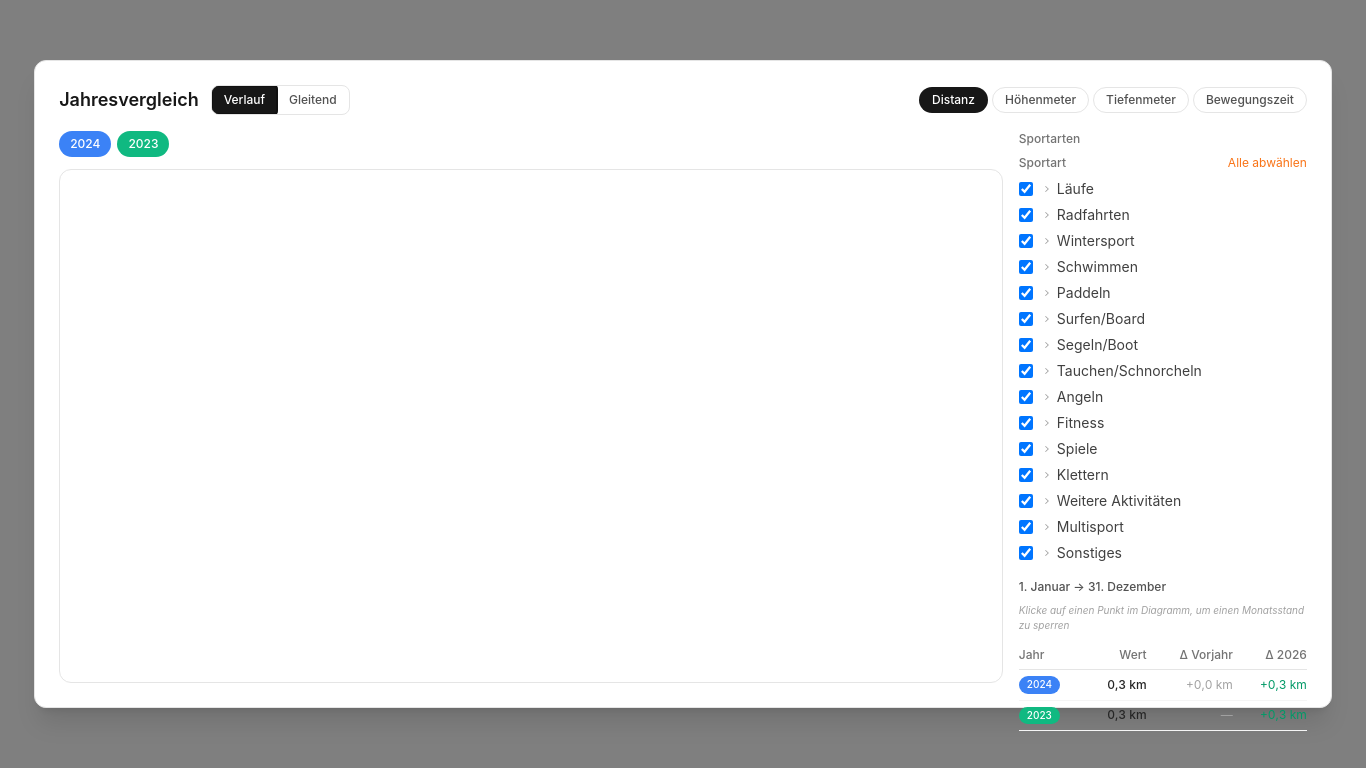
Test: YearProgressionFullscreenModal › period-selector: Tag unit with multiplier 1 shows singular hint
Click the button "Gleitend" at (313, 100), box top-left (277, 86), bottom-right (349, 114)
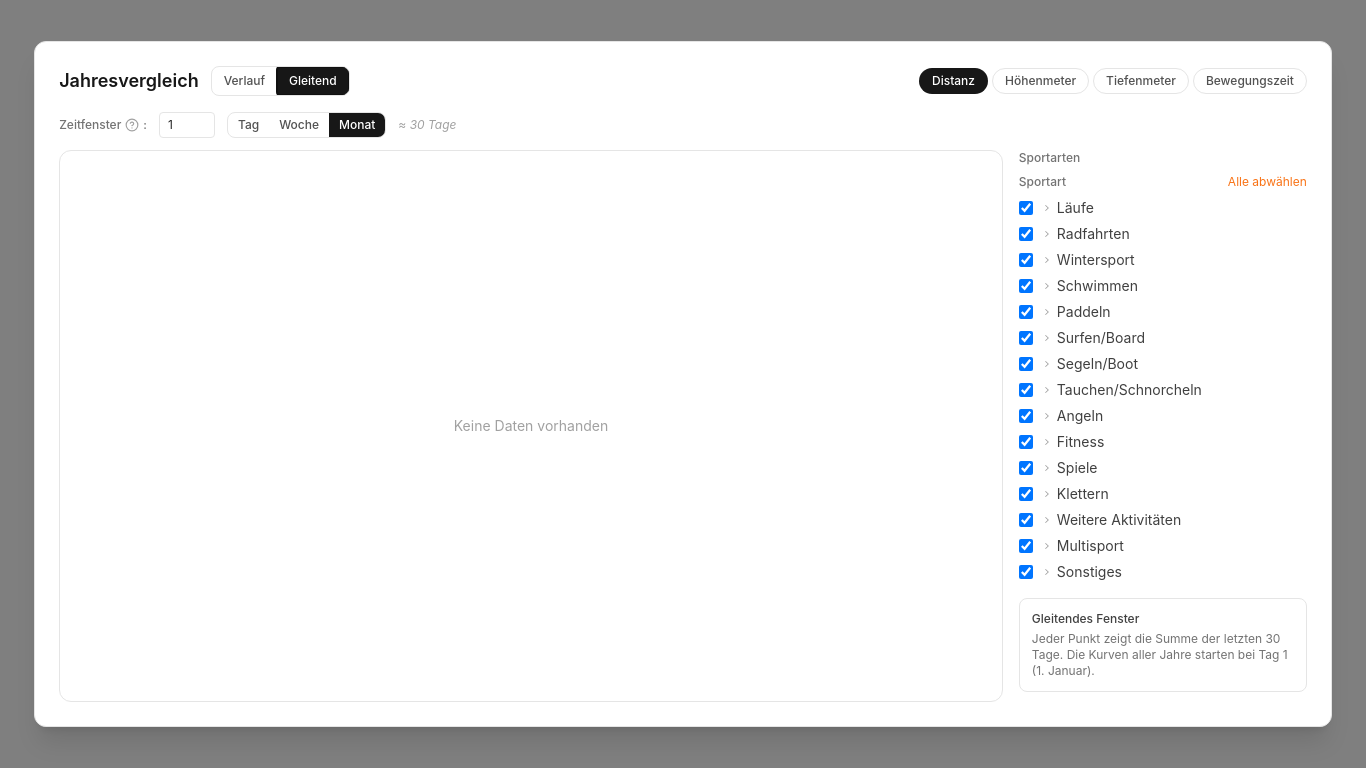
Click the button "Tag" at (248, 125), box top-left (228, 113), bottom-right (269, 137)
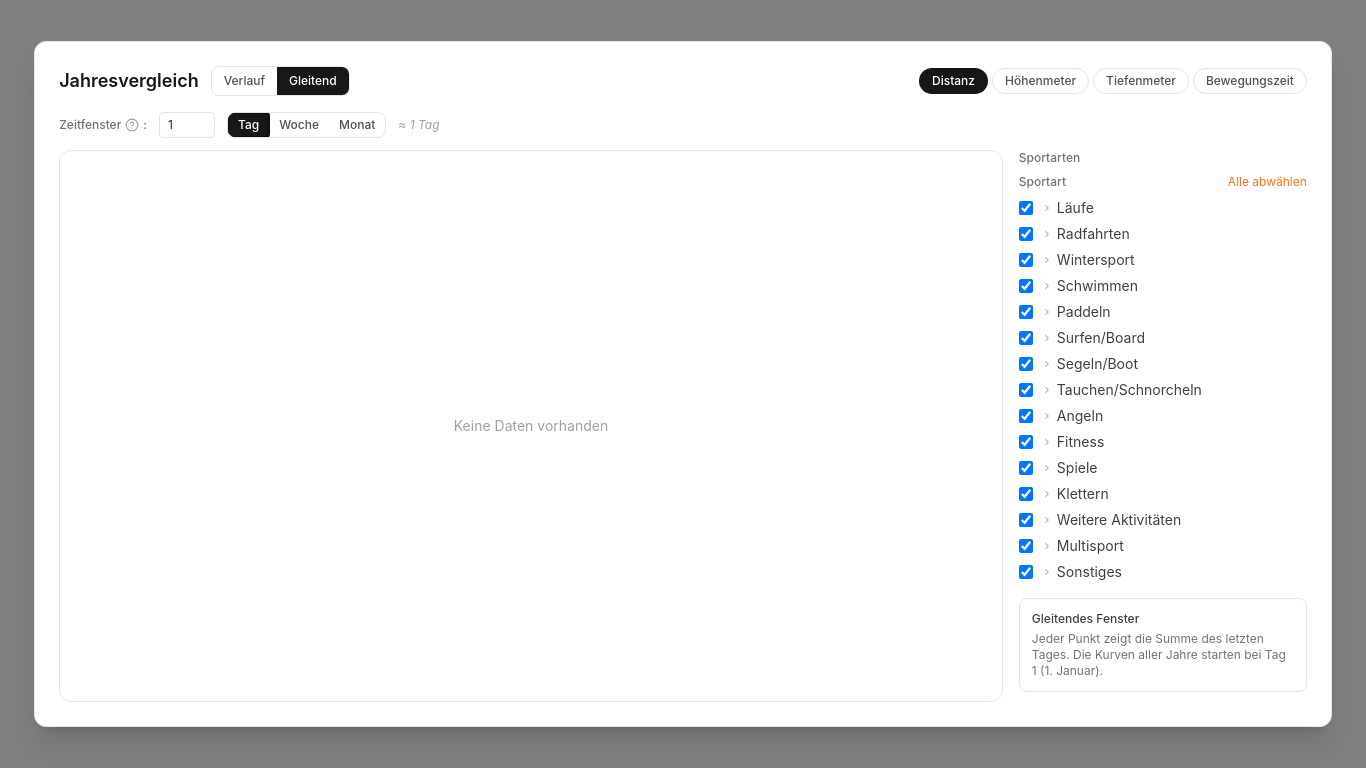
Result: the text "≈ 1 Tag" is shown at top-left (398, 117), bottom-right (440, 133)
